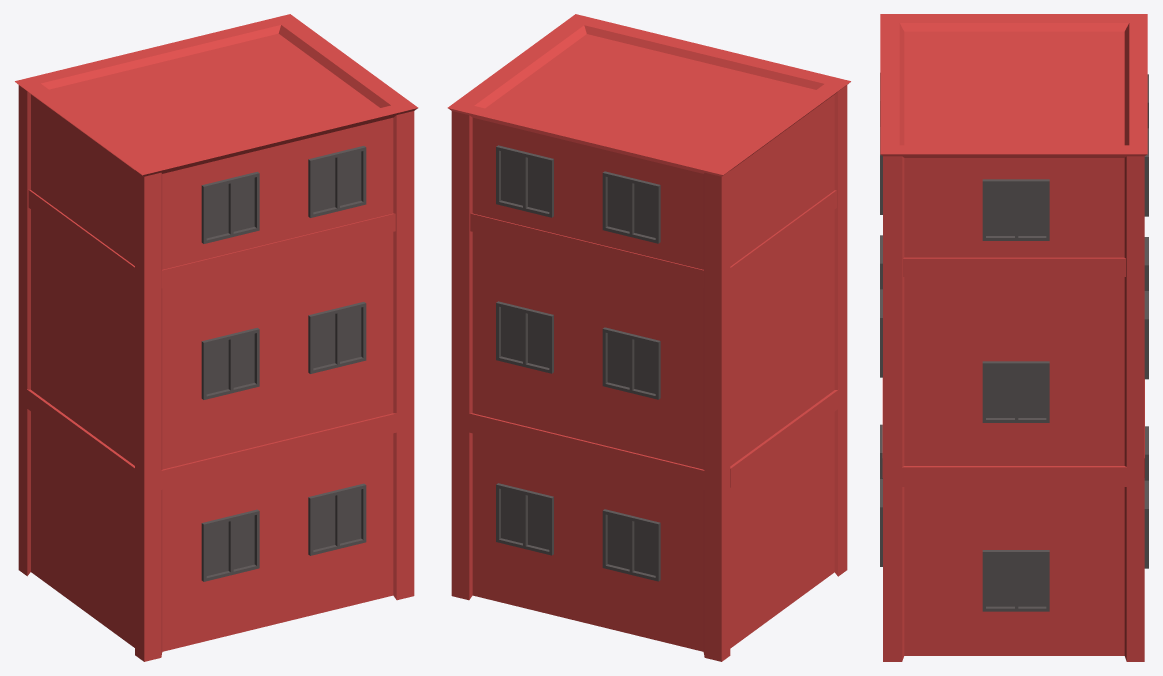
The model's file is building.fbx.
3 views of the same model, side by side, from view 1: azimuth 30°, elevation 25°; view 2: azimuth 150°, elevation 25°; view 3: azimuth 270°, elevation 25° (orthographic). The views are drawn at different scales.
Parts seen in each view (by area): view 1: Cube, Cube.010, Cube.012, Cube.011, Cube.013, Cube.014, Cube.015; view 2: Cube, Cube.006, Cube.002, Cube.004, Cube.001, Cube.003, Cube.005; view 3: Cube, Cube.007, Cube.008, Cube.009, Cube.003, Cube.005.
Boxes of the visible parts, x1,y1,x2,y2 form: Cube: (15,14,418,661); Cube.010: (308,146,366,217); Cube.012: (308,302,366,373); Cube.011: (201,171,259,243); Cube.013: (201,327,259,399); Cube.014: (308,483,366,555); Cube.015: (201,509,259,581); Cube: (447,14,850,661); Cube.006: (602,509,660,581); Cube.002: (602,171,660,243); Cube.004: (602,327,660,399); Cube.001: (496,145,553,217); Cube.003: (496,301,553,373); Cube.005: (496,483,553,555); Cube: (880,14,1147,661); Cube.007: (982,179,1049,240); Cube.008: (982,361,1049,422); Cube.009: (982,550,1049,611); Cube.003: (1144,291,1148,379); Cube.005: (1144,480,1148,568).
Size of the model in its own units: 239 by 404 by 193.
